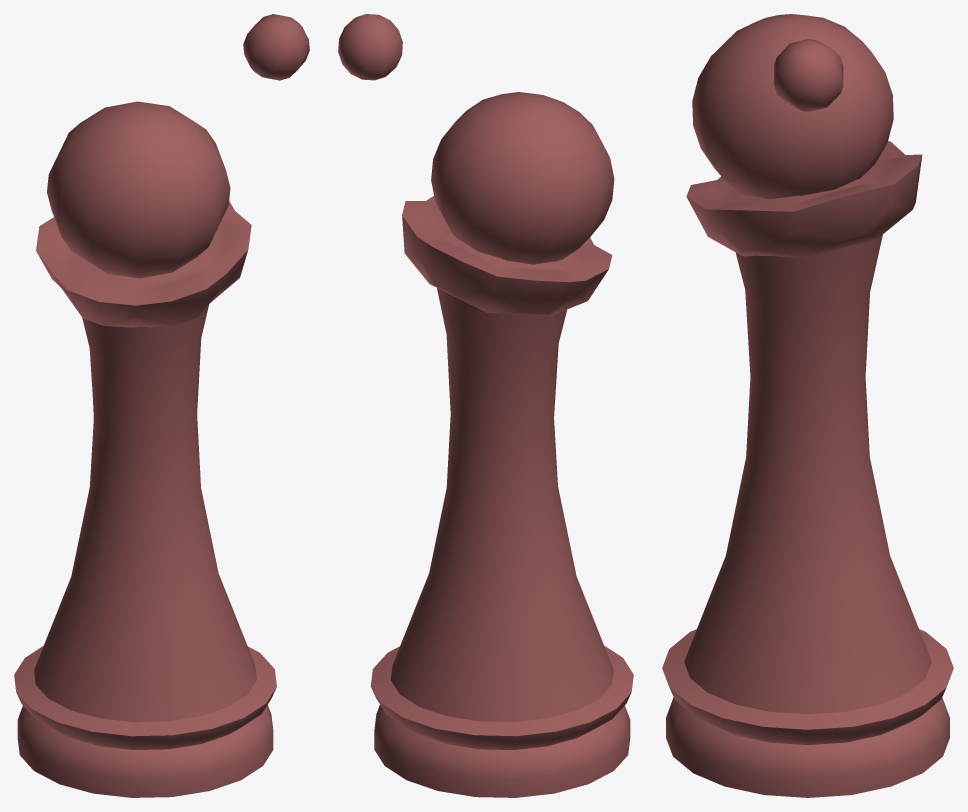
Rendered from Costum_colon2.fbx.
3 views of the same model, side by side, from view 1: azimuth 30°, elevation 25°; view 2: azimuth 150°, elevation 25°; view 3: azimuth 270°, elevation 25° (orthographic). The views are drawn at different scales.
Parts seen in each view (by area): view 1: colonnabig2; view 2: colonnabig2; view 3: colonnabig2.
Part boxes in pixels (x1,y1,x2,y2): colonnabig2: [14, 14, 309, 797]; colonnabig2: [338, 14, 633, 797]; colonnabig2: [662, 14, 953, 797].
Bounding box in the file's own units: 1.74 × 4.21 × 1.45.
